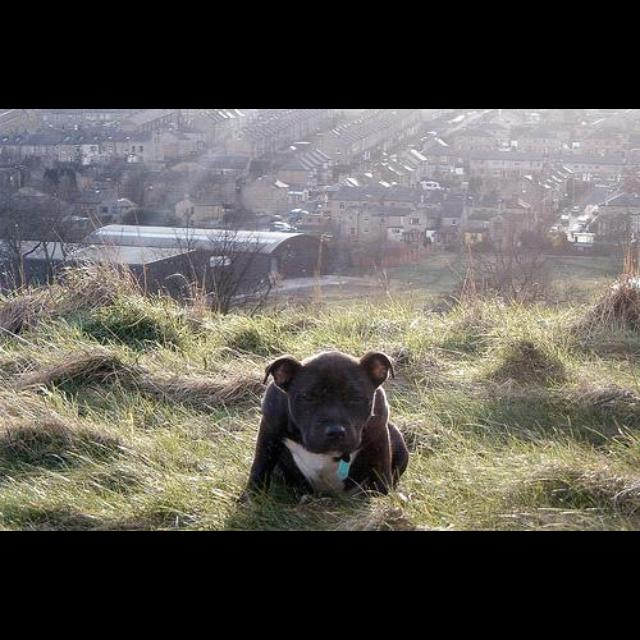staffford: (243, 351, 409, 505)
